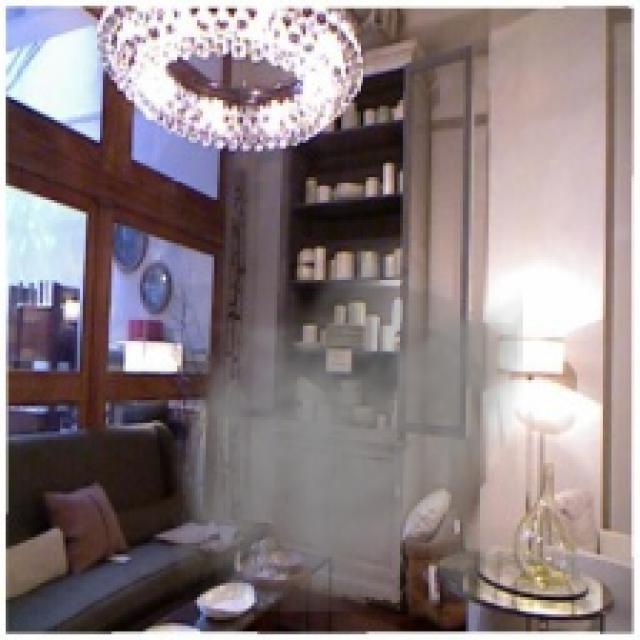Smoke: (171, 239, 523, 612)
